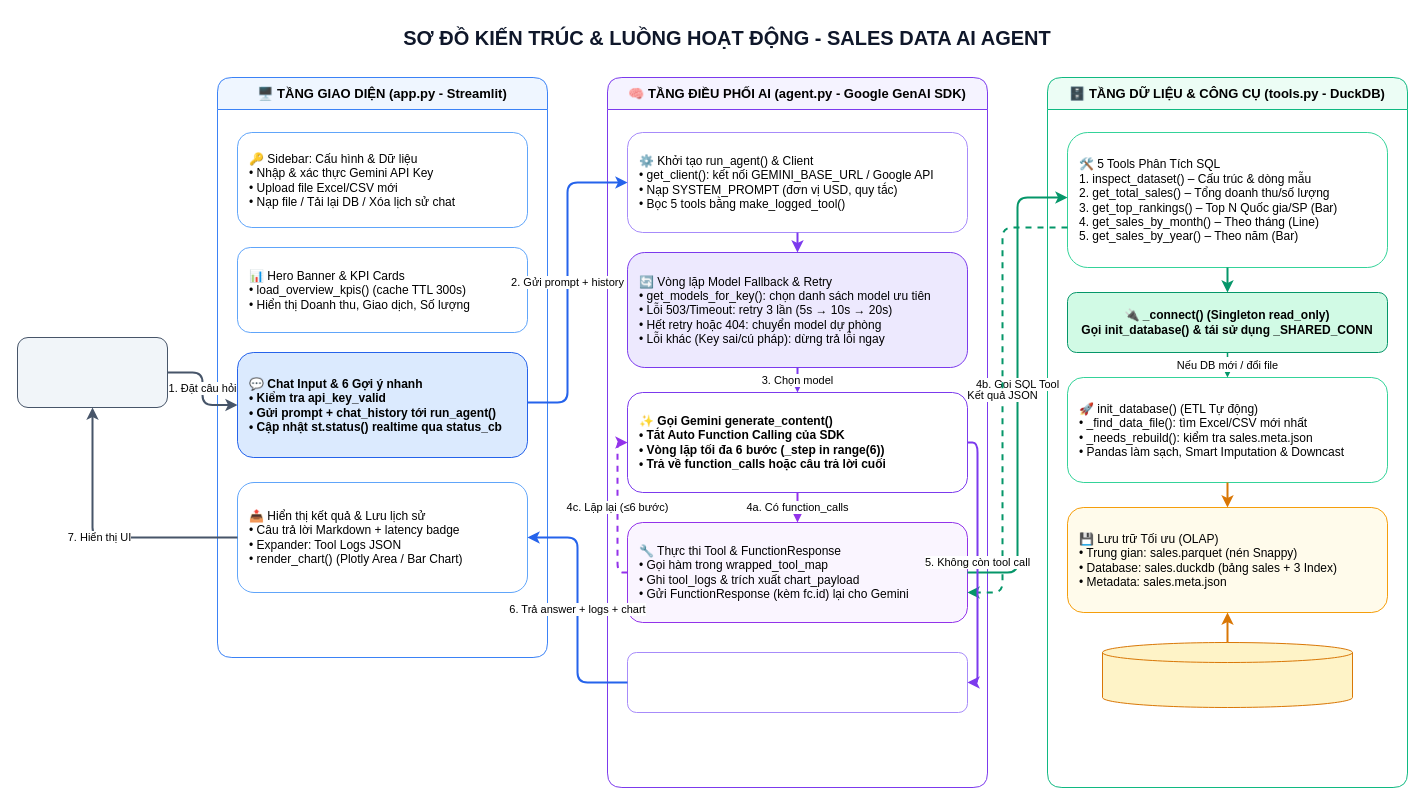
This 1425x805 diagram has some shape labels left out. The shapes that lost their labels are listed below. From the top down, each one's centre as x and y in pixels, then its label:
At (x=92, y=372): "👤 Người dùng (Trình duyệt Web)".
At (x=797, y=682): "📦 Đóng gói Output trả về app.py { answer, tool_logs, chart }".
At (x=1227, y=675): "📄 Nguồn: data.xlsx / File CSV Upload".
